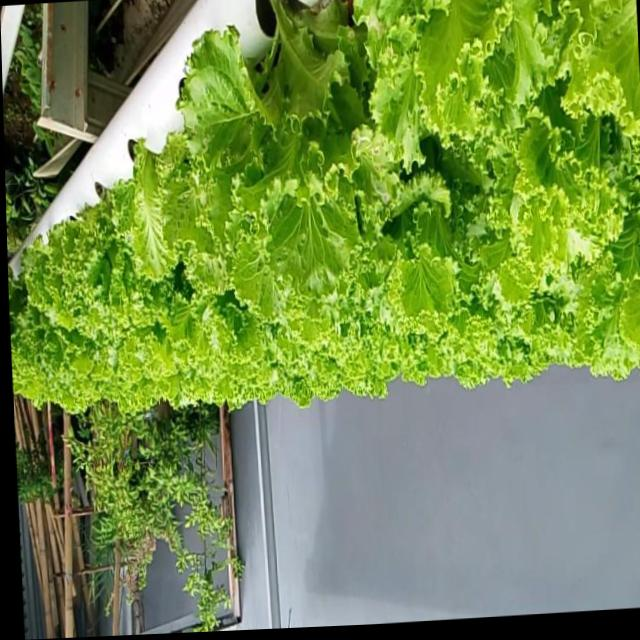Mature: (8, 0, 640, 429), (166, 9, 362, 303), (12, 169, 156, 385)
